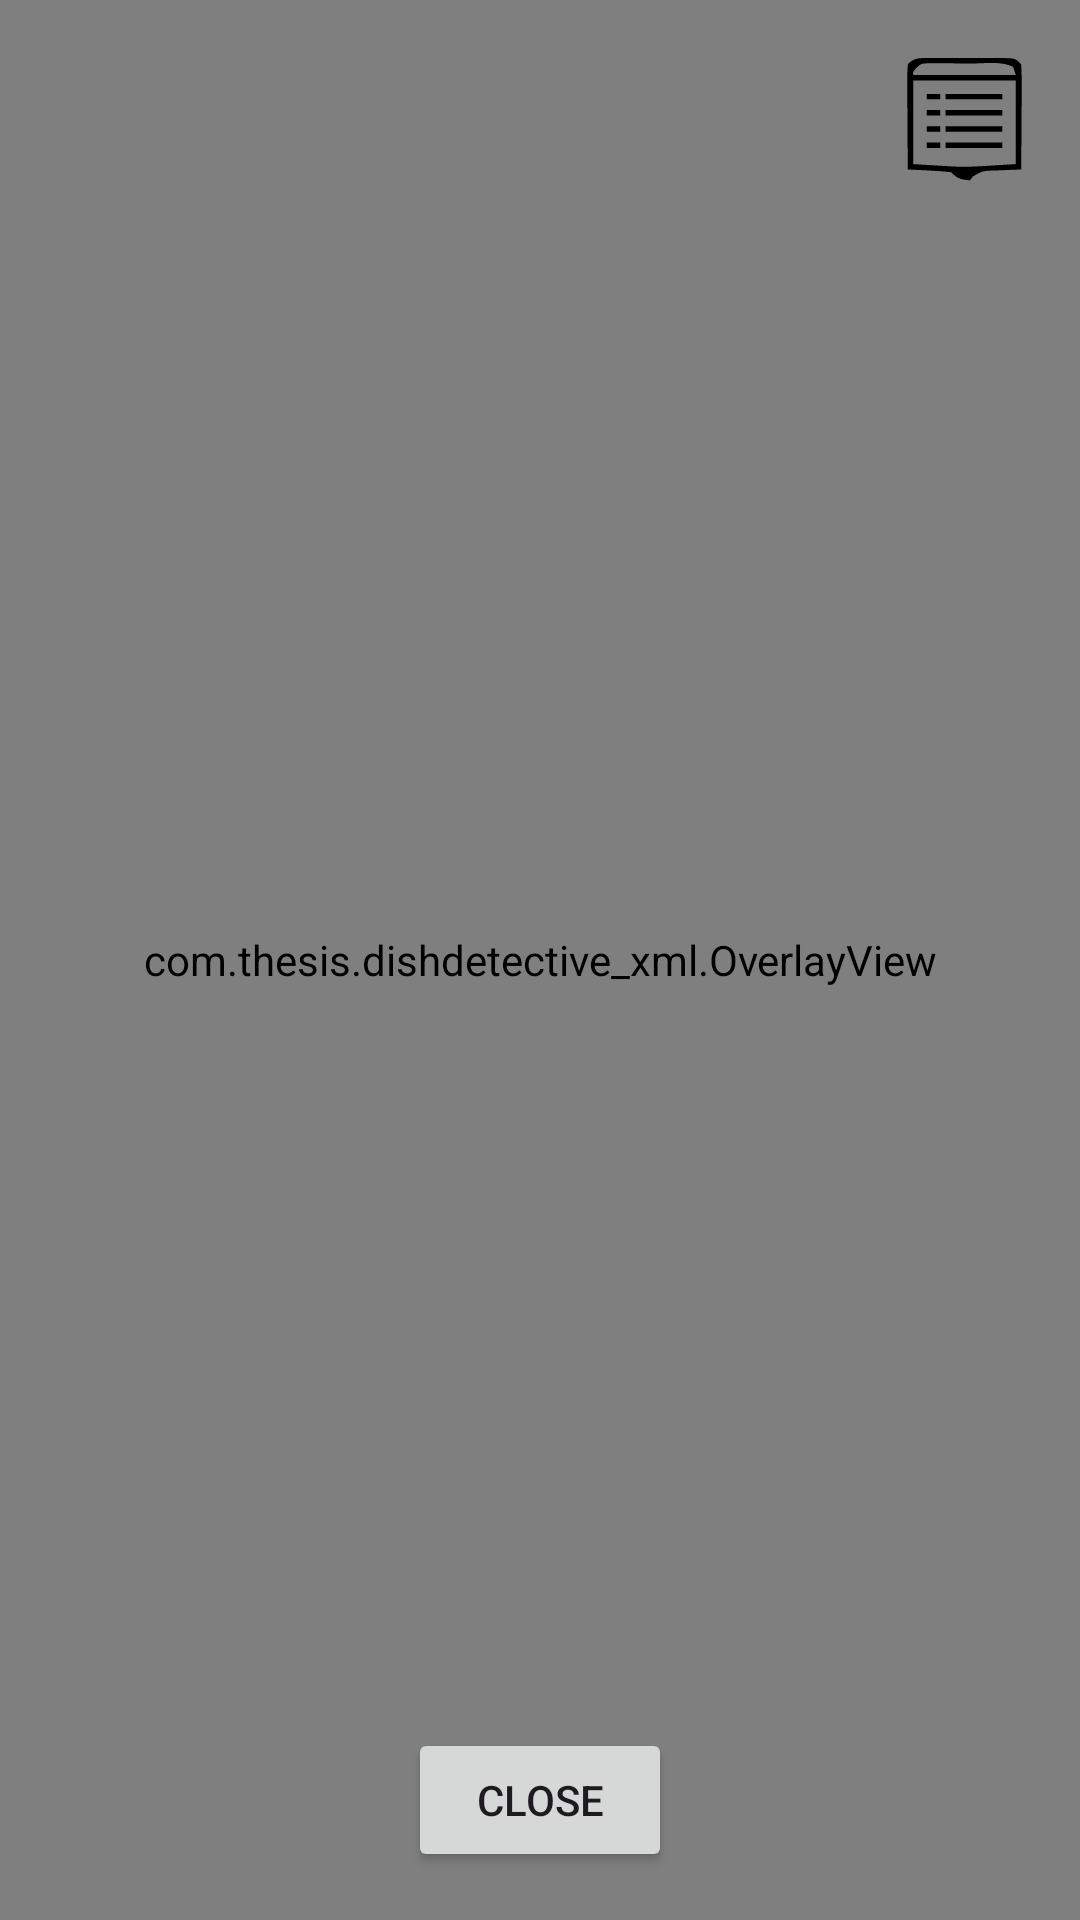

Screen size 1080x1920. Icon name, then its box in pixels as {"x1": x1, "y1": y1, "x2": x2, "y2": y2}:
details: {"x1": 907, "y1": 58, "x2": 1022, "y2": 181}
